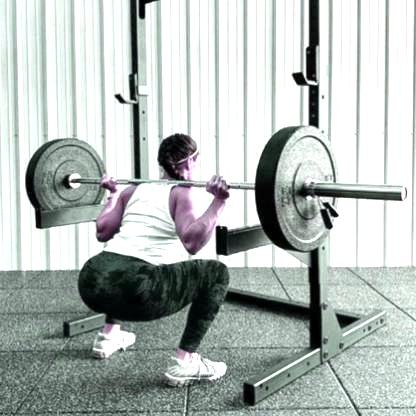Barbell: (397, 183, 412, 206)
